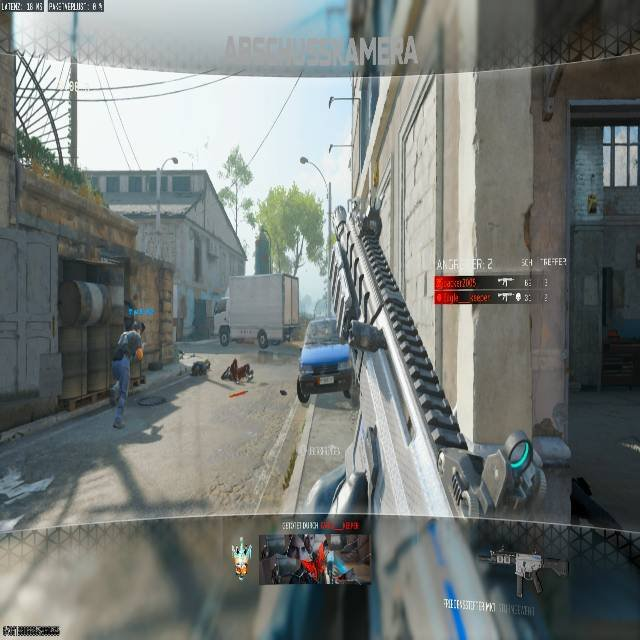head: (124, 307, 139, 325), (130, 320, 145, 333)
player: (110, 320, 145, 429)
